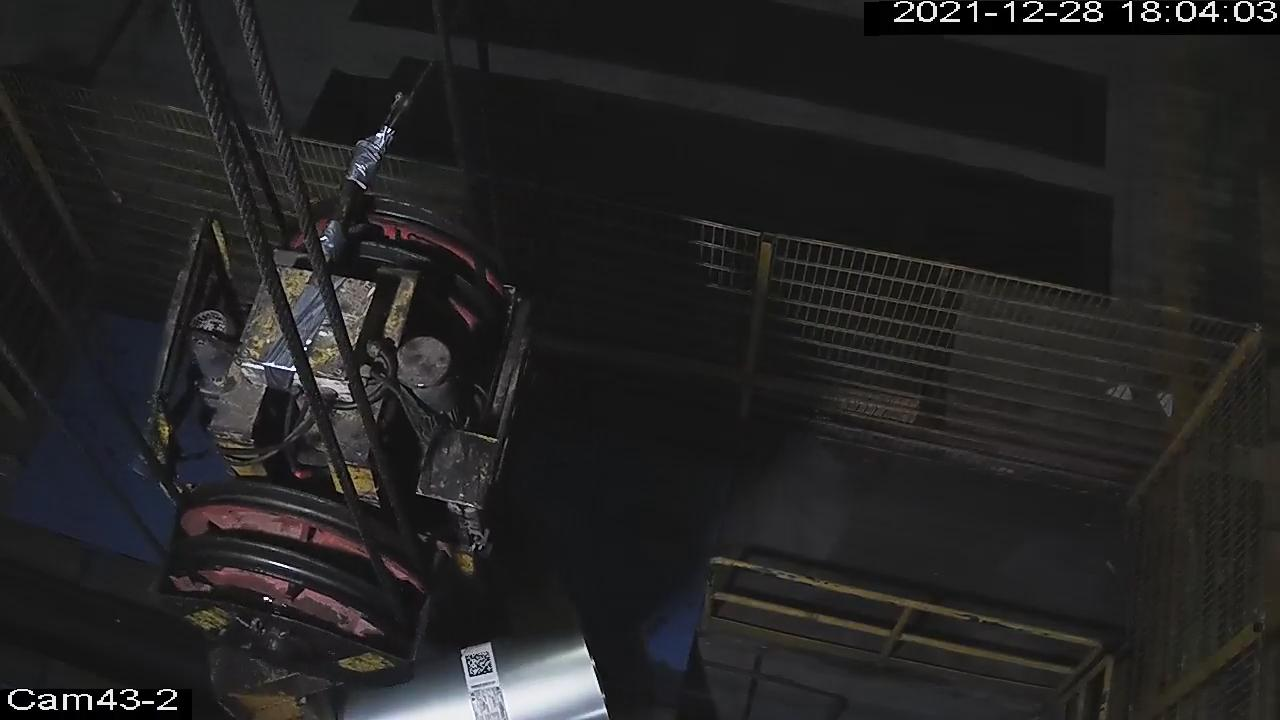data matrix: (464, 650, 496, 679)
